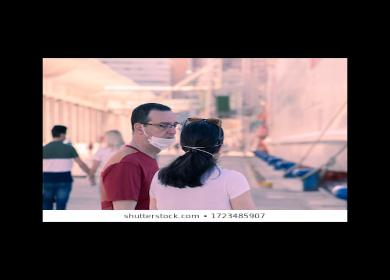mask_weared_incorrect: (144, 117, 179, 149)
